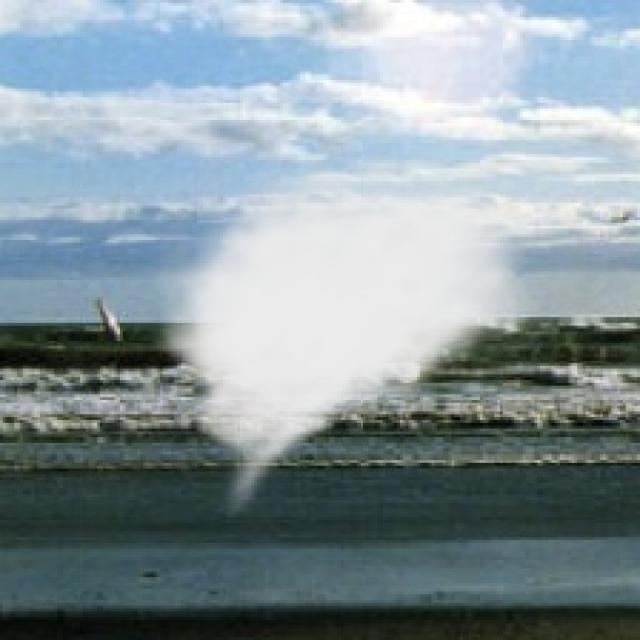smoke: (146, 160, 548, 520)
